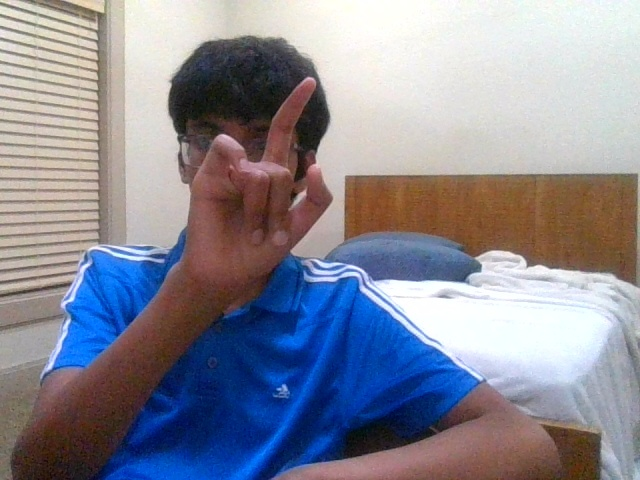ly: (187, 77, 333, 280)
